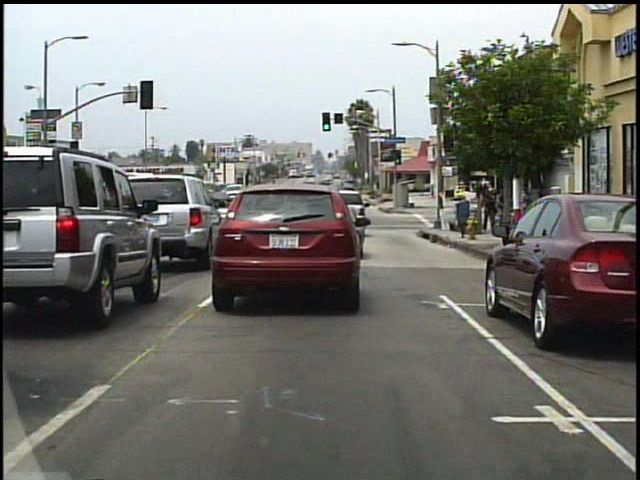person: (518, 185, 535, 234), (482, 186, 498, 230), (497, 189, 505, 227)
